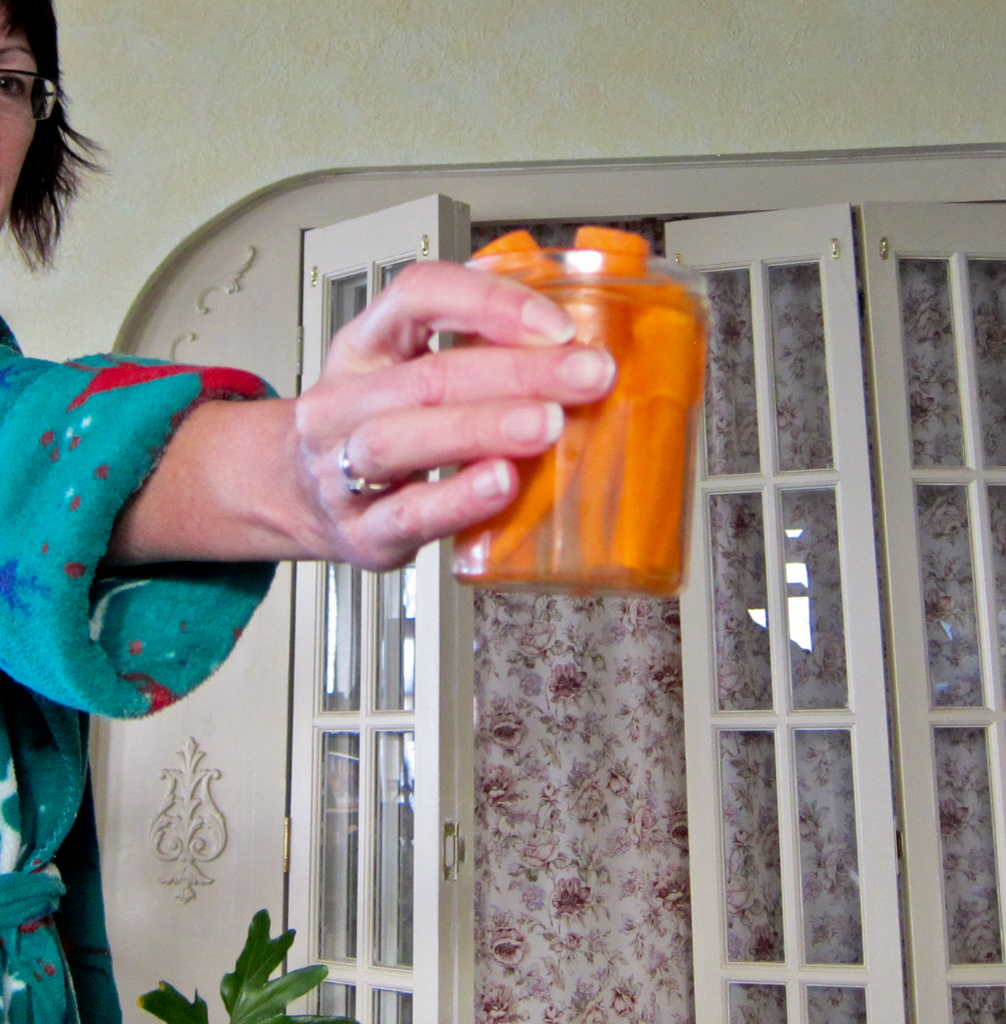Carrot: (485, 226, 650, 573), (625, 276, 702, 573)
